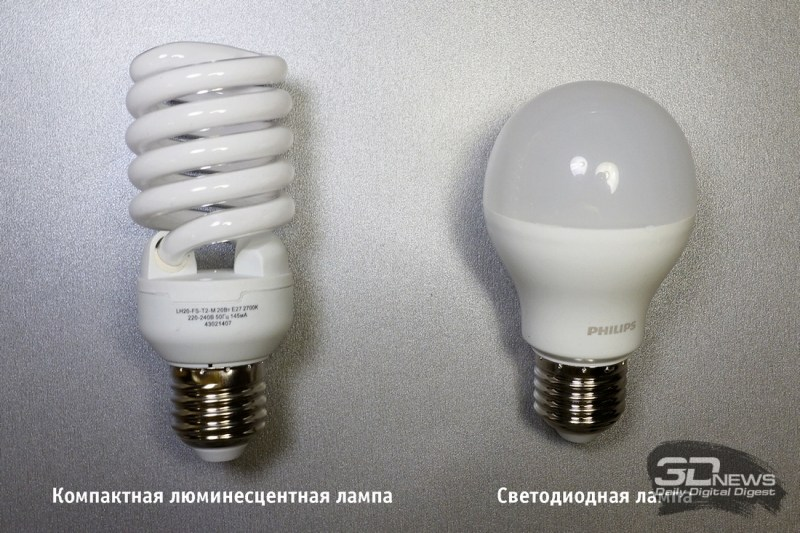Light_bulb: (475, 73, 712, 458), (118, 37, 311, 477)
